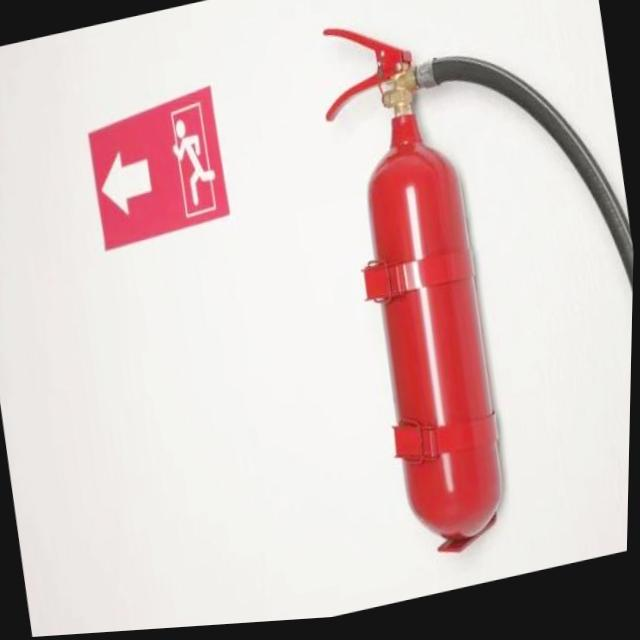FireExtinguisher: (296, 0, 640, 614)
